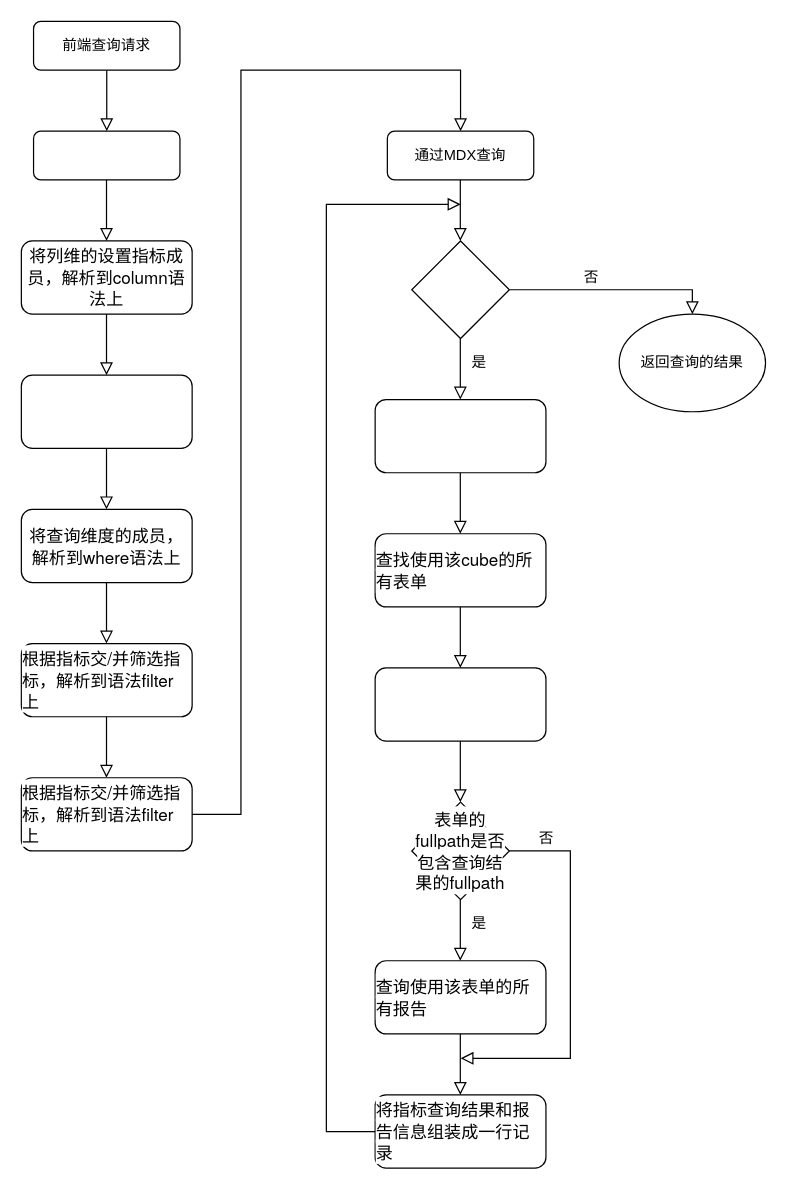
Image size: 787x1190. Some labels were removed from this diagram. Each missing label, with the box of its shape:
将结果按照cube维度顺序，拼接成fullpath: (374, 398, 546, 473)
将行维度，解析到row语法上: (20, 374, 192, 448)
将表单的行列页面视点维度成员，解析成全量fullpath: (374, 667, 546, 741)
是否有结果需要查询报告: (411, 240, 509, 339)
解析请求中的cube，作到FROM语法上: (32, 130, 180, 180)
